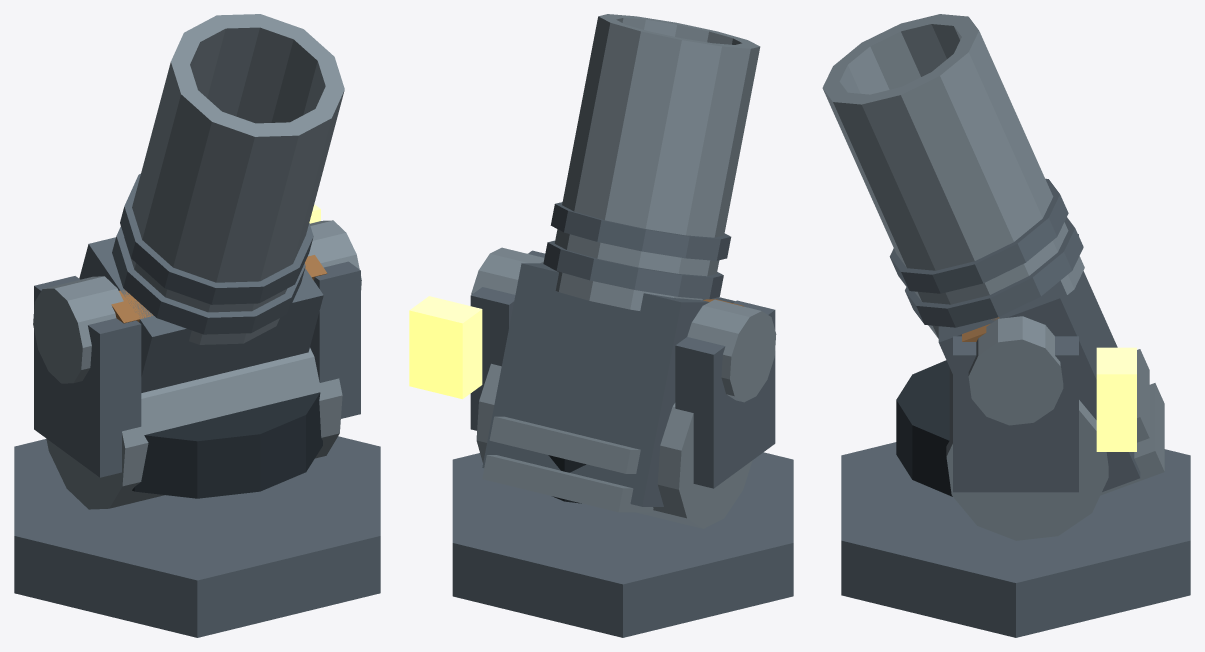
The model's file is mortar_t1_d0.meshopt.glb.
3 renders of one model, left to right at view 1: azimuth 30°, elevation 25°; view 2: azimuth 150°, elevation 25°; view 3: azimuth 270°, elevation 25°, orthographic. The views are drawn at different scales.
Visible parts, largest first — view 1: RECOIL_ARMOR_GEOMETRY, BASE_ARMOR_GEOMETRY, YAW_ARMOR_GEOMETRY; view 2: RECOIL_ARMOR_GEOMETRY, BASE_ARMOR_GEOMETRY, YAW_ARMOR_GEOMETRY, YAW_SIGNAL_GEOMETRY; view 3: RECOIL_ARMOR_GEOMETRY, BASE_ARMOR_GEOMETRY, YAW_ARMOR_GEOMETRY, YAW_SIGNAL_GEOMETRY.
Part boxes in pixels (left/top/right/bottom): RECOIL_ARMOR_GEOMETRY: left=33, top=14, right=361, bottom=509; BASE_ARMOR_GEOMETRY: left=14, top=436, right=380, bottom=637; YAW_ARMOR_GEOMETRY: left=34, top=261, right=360, bottom=498; RECOIL_ARMOR_GEOMETRY: left=471, top=14, right=776, bottom=528; BASE_ARMOR_GEOMETRY: left=452, top=452, right=793, bottom=637; YAW_ARMOR_GEOMETRY: left=470, top=250, right=775, bottom=503; YAW_SIGNAL_GEOMETRY: left=409, top=296, right=482, bottom=399; RECOIL_ARMOR_GEOMETRY: left=822, top=14, right=1164, bottom=540; BASE_ARMOR_GEOMETRY: left=841, top=442, right=1190, bottom=637; YAW_ARMOR_GEOMETRY: left=896, top=234, right=1078, bottom=496; YAW_SIGNAL_GEOMETRY: left=1096, top=347, right=1136, bottom=451.
Size of the model in its own units: 1.6 by 2.29 by 1.46.
